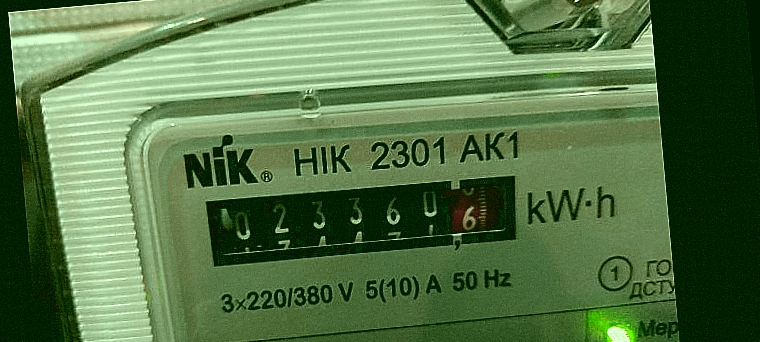0: (230, 207, 253, 241), (419, 186, 439, 218)
2: (267, 200, 293, 236)
3: (305, 197, 329, 231), (344, 193, 365, 225)
6: (380, 192, 403, 226), (456, 201, 479, 231)
screen: (185, 155, 535, 283)
